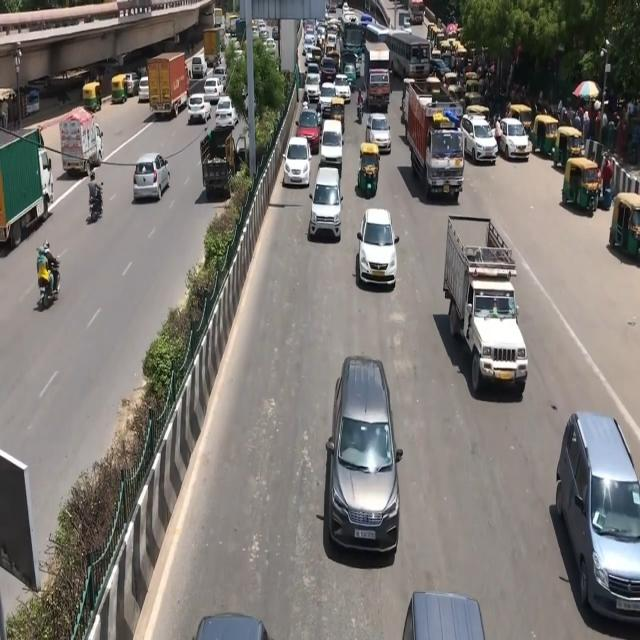Bike: (36, 244, 68, 313)
